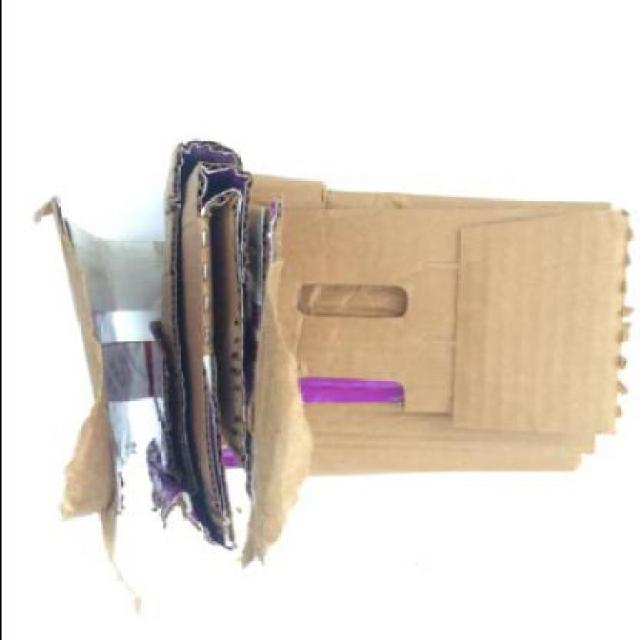CARDBOARD: (28, 142, 634, 569), (245, 175, 632, 474), (32, 142, 303, 563)
